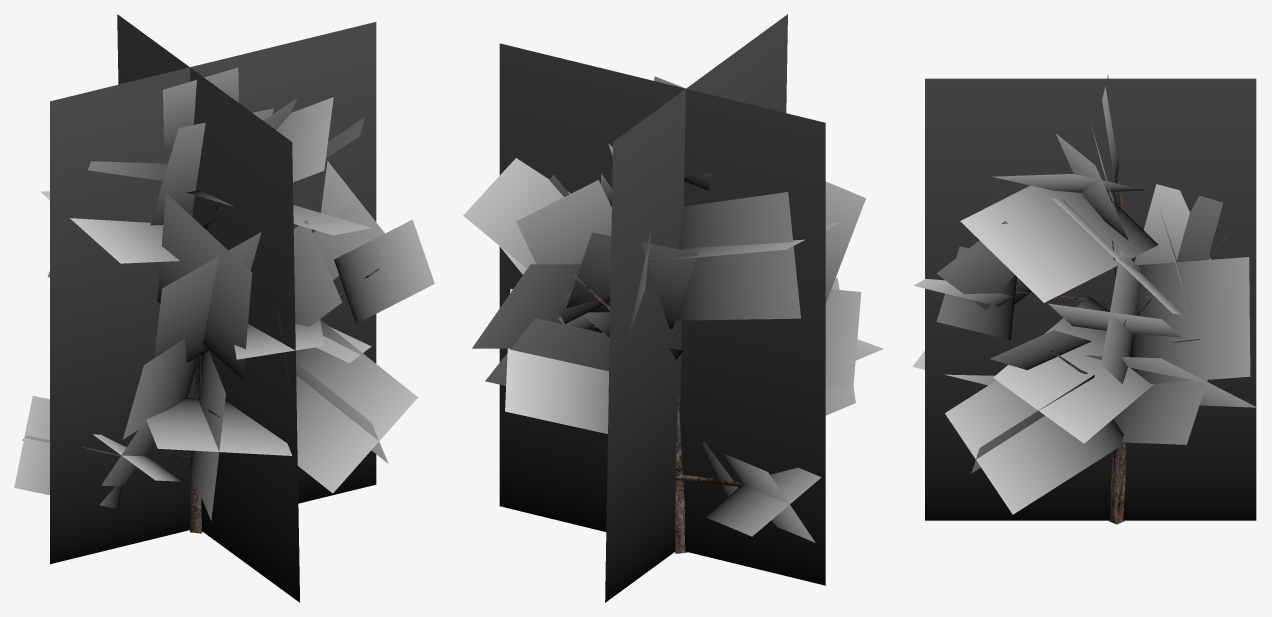
The model's file is Tree_A.fbx.
3 views of the same model, side by side, from view 1: azimuth 30°, elevation 25°; view 2: azimuth 150°, elevation 25°; view 3: azimuth 270°, elevation 25° (orthographic). The views are drawn at different scales.
Visible parts, largest first — view 1: Billboard, Tree_A; view 2: Billboard, Tree_A; view 3: Billboard, Tree_A.
Part boxes in pixels (box(x1,y1,x2,y2)): Billboard: box(50, 14, 376, 602); Tree_A: box(14, 67, 434, 533); Billboard: box(499, 14, 825, 602); Tree_A: box(463, 76, 883, 553); Billboard: box(925, 78, 1256, 520); Tree_A: box(912, 74, 1256, 524).
Bounding box in the file's own units: 516 × 659 × 469.
